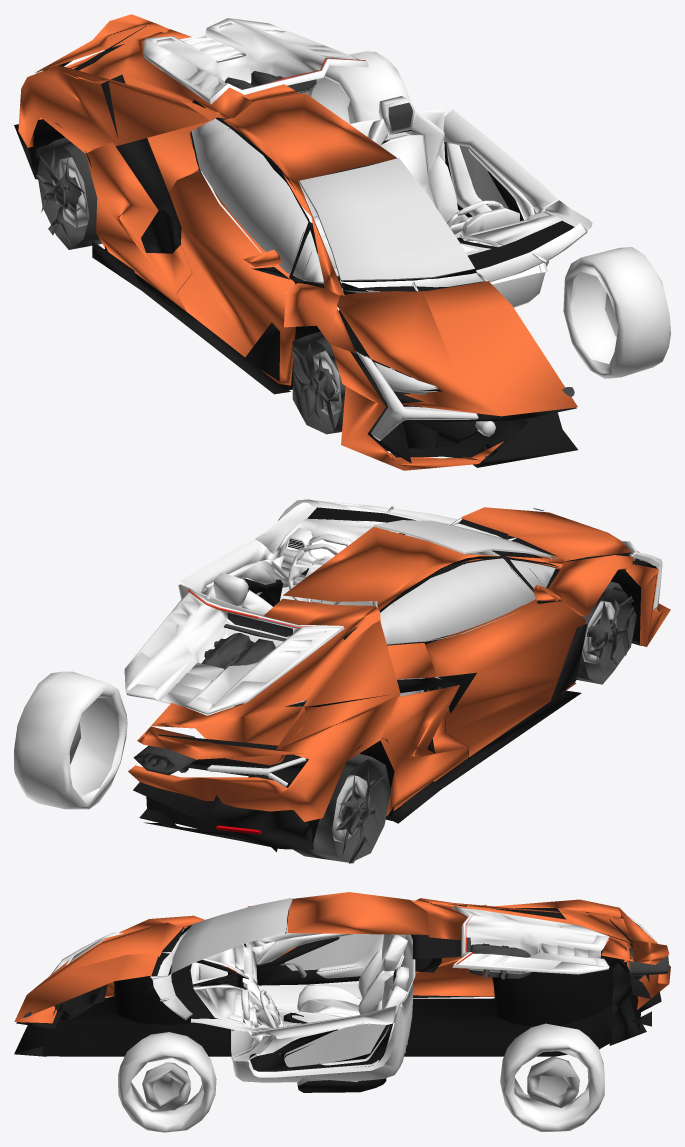
The model's file is spacehub-traffic-b.glb.
The picture shows the model from 3 angles, top to bottom: view 1: azimuth 30°, elevation 25°; view 2: azimuth 150°, elevation 25°; view 3: azimuth 270°, elevation 25°; orthographic projection. The views are drawn at different scales.
Visible parts, largest first — view 1: AM-Lamborghini Revuelto.093, AM-Lamborghini Revuelto.124, AM-Lamborghini Revuelto.011, AM-Lamborghini Revuelto, AM-Lamborghini Revuelto.017, AM-Lamborghini Revuelto.023, AM-Lamborghini Revuelto.001, AM-Lamborghini Revuelto.095, AM-Lamborghini Revuelto.019, AM-Lamborghini Revuelto.005, AM-Lamborghini Revuelto.020, AM-Lamborghini Revuelto.050 (+3 smaller); view 2: AM-Lamborghini Revuelto.093, AM-Lamborghini Revuelto, AM-Lamborghini Revuelto.017, AM-Lamborghini Revuelto.124, AM-Lamborghini Revuelto.001, AM-Lamborghini Revuelto.011, AM-Lamborghini Revuelto.023, AM-Lamborghini Revuelto.005, AM-Lamborghini Revuelto.009, AM-Lamborghini Revuelto.020, AM-Lamborghini Revuelto.003, AM-Lamborghini Revuelto.094 (+4 smaller); view 3: AM-Lamborghini Revuelto.093, AM-Lamborghini Revuelto.094, AM-Lamborghini Revuelto.023, AM-Lamborghini Revuelto, AM-Lamborghini Revuelto.017, AM-Lamborghini Revuelto.020, AM-Lamborghini Revuelto.124, AM-Lamborghini Revuelto.003, AM-Lamborghini Revuelto.011, AM-Lamborghini Revuelto.019, AM-Lamborghini Revuelto.005, AM-Lamborghini Revuelto.050 (+4 smaller).
Boxes of the visible parts, left/top/right/bottom form: AM-Lamborghini Revuelto.093: left=18, top=14, right=577, bottom=470; AM-Lamborghini Revuelto.124: left=191, top=118, right=474, bottom=283; AM-Lamborghini Revuelto.011: left=43, top=60, right=577, bottom=467; AM-Lamborghini Revuelto: left=143, top=18, right=587, bottom=293; AM-Lamborghini Revuelto.017: left=309, top=51, right=670, bottom=378; AM-Lamborghini Revuelto.023: left=198, top=96, right=592, bottom=307; AM-Lamborghini Revuelto.001: left=34, top=137, right=574, bottom=434; AM-Lamborghini Revuelto.095: left=36, top=70, right=478, bottom=440; AM-Lamborghini Revuelto.019: left=299, top=100, right=491, bottom=243; AM-Lamborghini Revuelto.005: left=14, top=25, right=496, bottom=449; AM-Lamborghini Revuelto.020: left=337, top=129, right=574, bottom=287; AM-Lamborghini Revuelto.050: left=313, top=135, right=503, bottom=242; AM-Lamborghini Revuelto.093: left=128, top=507, right=670, bottom=821; AM-Lamborghini Revuelto: left=124, top=500, right=557, bottom=714; AM-Lamborghini Revuelto.017: left=14, top=499, right=362, bottom=809; AM-Lamborghini Revuelto.124: left=373, top=520, right=555, bottom=644; AM-Lamborghini Revuelto.001: left=293, top=508, right=636, bottom=863; AM-Lamborghini Revuelto.011: left=146, top=519, right=657, bottom=831; AM-Lamborghini Revuelto.023: left=178, top=502, right=519, bottom=711; AM-Lamborghini Revuelto.005: left=133, top=558, right=639, bottom=849; AM-Lamborghini Revuelto.009: left=201, top=559, right=648, bottom=669; AM-Lamborghini Revuelto.020: left=234, top=507, right=536, bottom=723; AM-Lamborghini Revuelto.003: left=69, top=600, right=616, bottom=843; AM-Lamborghini Revuelto.094: left=181, top=560, right=640, bottom=851; AM-Lamborghini Revuelto.093: left=14, top=892, right=670, bottom=1023; AM-Lamborghini Revuelto.094: left=42, top=945, right=613, bottom=1056; AM-Lamborghini Revuelto.023: left=190, top=925, right=415, bottom=1085; AM-Lamborghini Revuelto: left=150, top=905, right=609, bottom=1056; AM-Lamborghini Revuelto.017: left=118, top=1023, right=604, bottom=1132; AM-Lamborghini Revuelto.020: left=171, top=937, right=393, bottom=1092; AM-Lamborghini Revuelto.124: left=171, top=898, right=415, bottom=974; AM-Lamborghini Revuelto.003: left=142, top=1056, right=579, bottom=1110; AM-Lamborghini Revuelto.011: left=14, top=904, right=643, bottom=1056; AM-Lamborghini Revuelto.019: left=231, top=934, right=407, bottom=1065; AM-Lamborghini Revuelto.005: left=64, top=919, right=661, bottom=1045; AM-Lamborghini Revuelto.050: left=255, top=938, right=403, bottom=1028.
Size of the model in its own units: 1.97 by 1.11 by 4.37.
